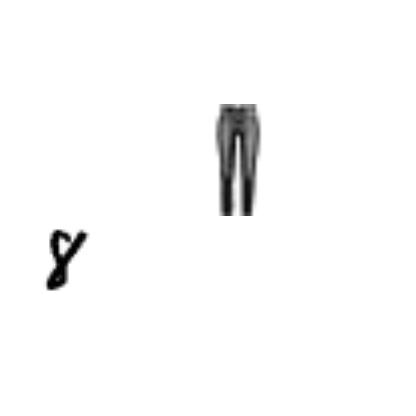8: (20, 215, 104, 299)
Trouser: (180, 104, 292, 216)
